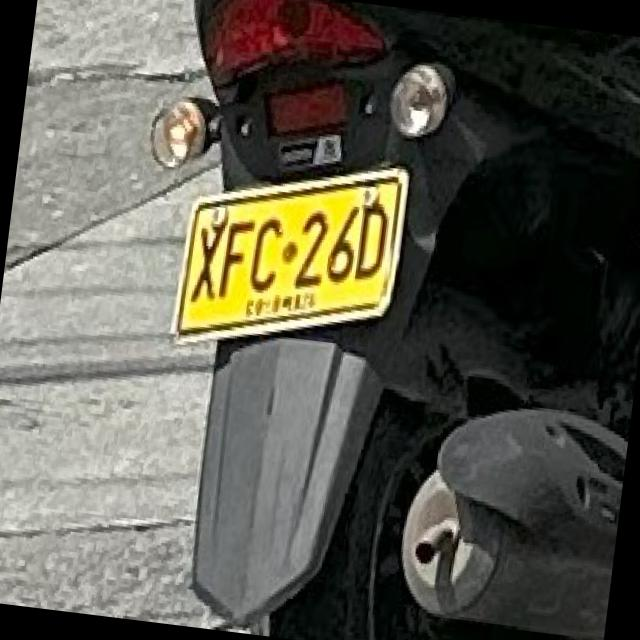number plate: (171, 165, 405, 334)
